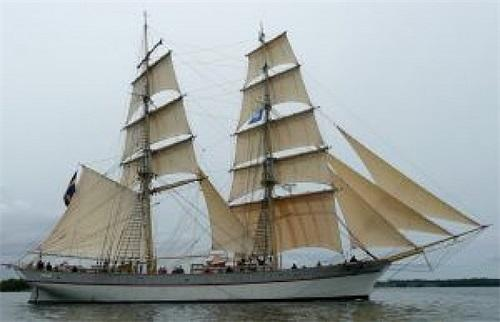Ship: (6, 12, 490, 307)
